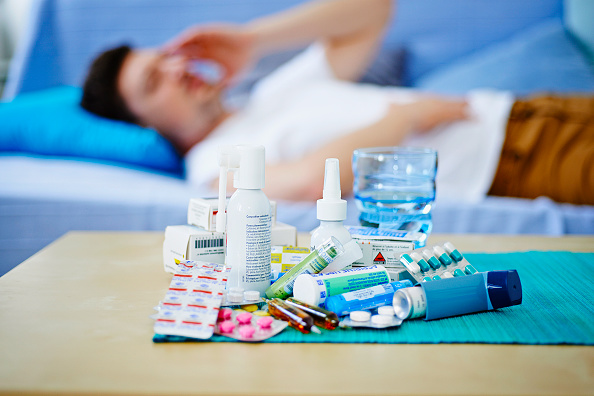deitado: (0, 4, 529, 161)
